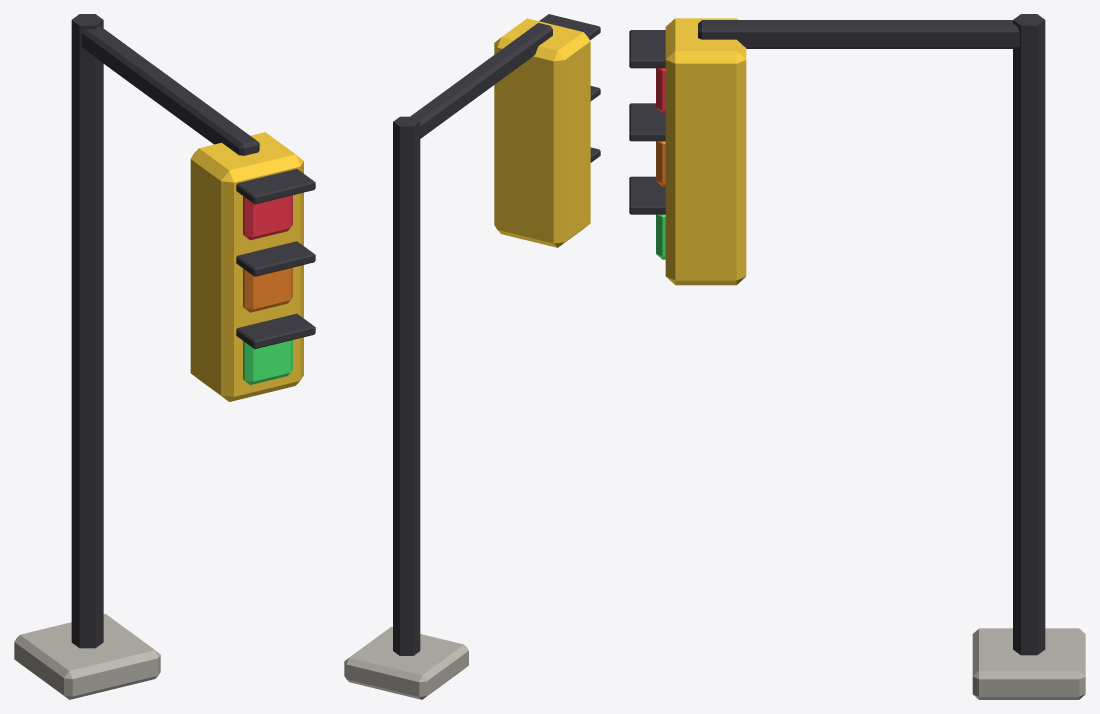
The model's file is TrafficLight.fbx.
3 views of the same model, side by side, from view 1: azimuth 30°, elevation 25°; view 2: azimuth 150°, elevation 25°; view 3: azimuth 270°, elevation 25° (orthographic). The views are drawn at different scales.
Visible parts, largest first — view 1: TrafficLight; view 2: TrafficLight; view 3: TrafficLight.
Boxes of the visible parts, x1,y1,x2,y2 form: TrafficLight: [14, 14, 315, 699]; TrafficLight: [344, 14, 600, 699]; TrafficLight: [629, 14, 1085, 699].
Size of the model in its own units: 1.4 by 9 by 5.65.
Materials: 1 (1 with a texture image).
